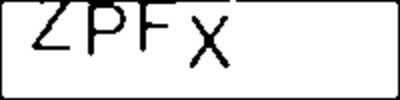F: (134, 1, 181, 58)
P: (82, 1, 129, 61)
X: (185, 11, 236, 70)
Z: (34, 1, 77, 57)
